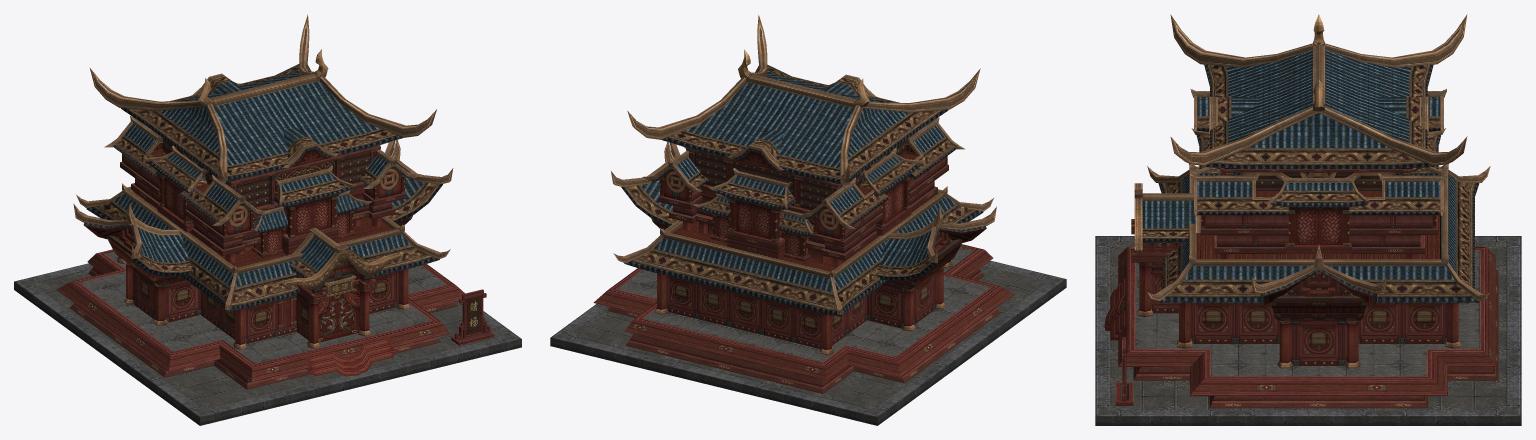
3 renders of one model, left to right at view 1: azimuth 30°, elevation 25°; view 2: azimuth 150°, elevation 25°; view 3: azimuth 270°, elevation 25°, orthographic. The views are drawn at different scales.
Parts seen in each view (by area): view 1: g_26; view 2: g_26; view 3: g_26.
Part boxes in pixels (x1,y1,x2,y2): g_26: [14, 14, 521, 425]; g_26: [550, 15, 1066, 425]; g_26: [1095, 14, 1521, 425].
Bounding box in the file's own units: 20 × 14.97 × 20.
Materials: 3 (3 with a texture image).
